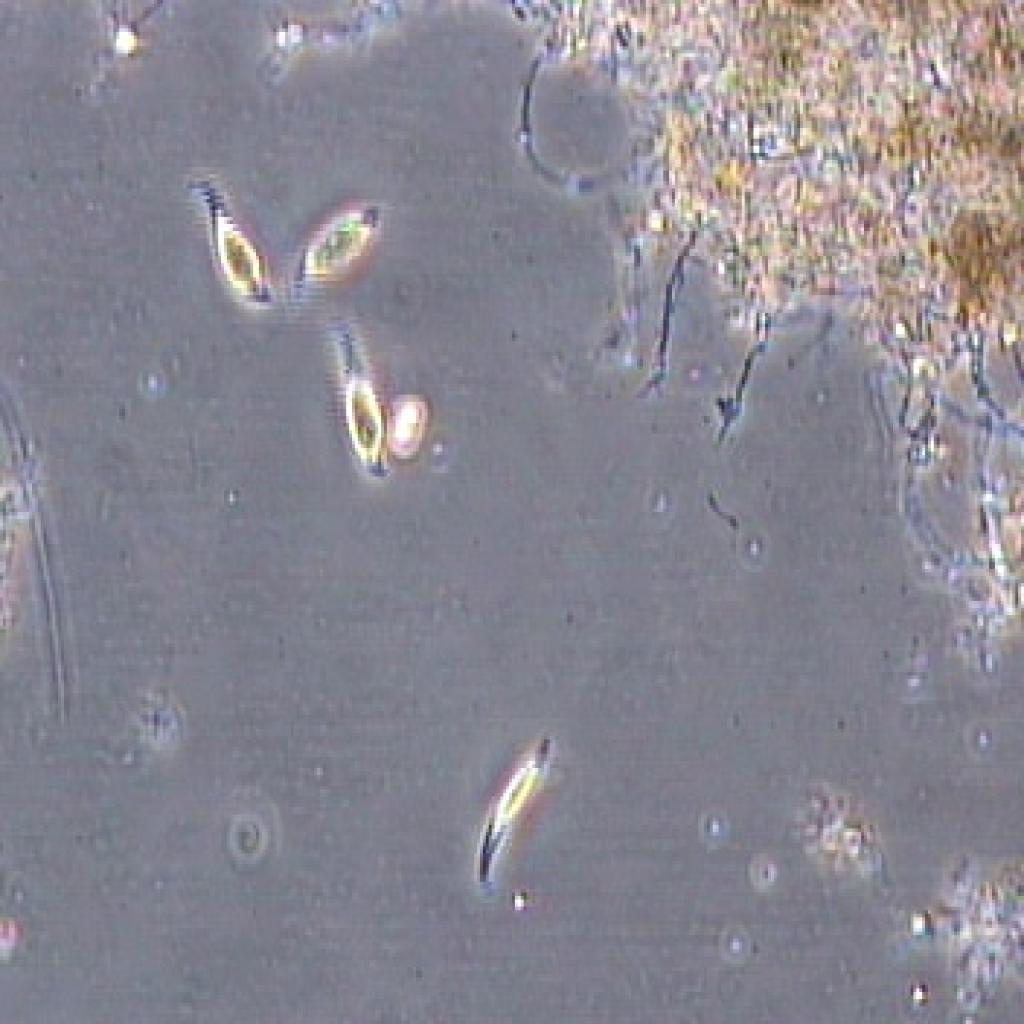Pristina: (460, 715, 556, 903), (173, 160, 269, 327), (310, 324, 397, 508), (281, 188, 397, 298)
